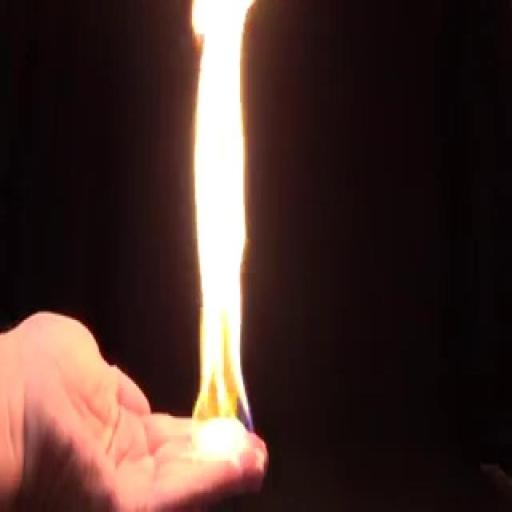smoke: (171, 2, 272, 469)
